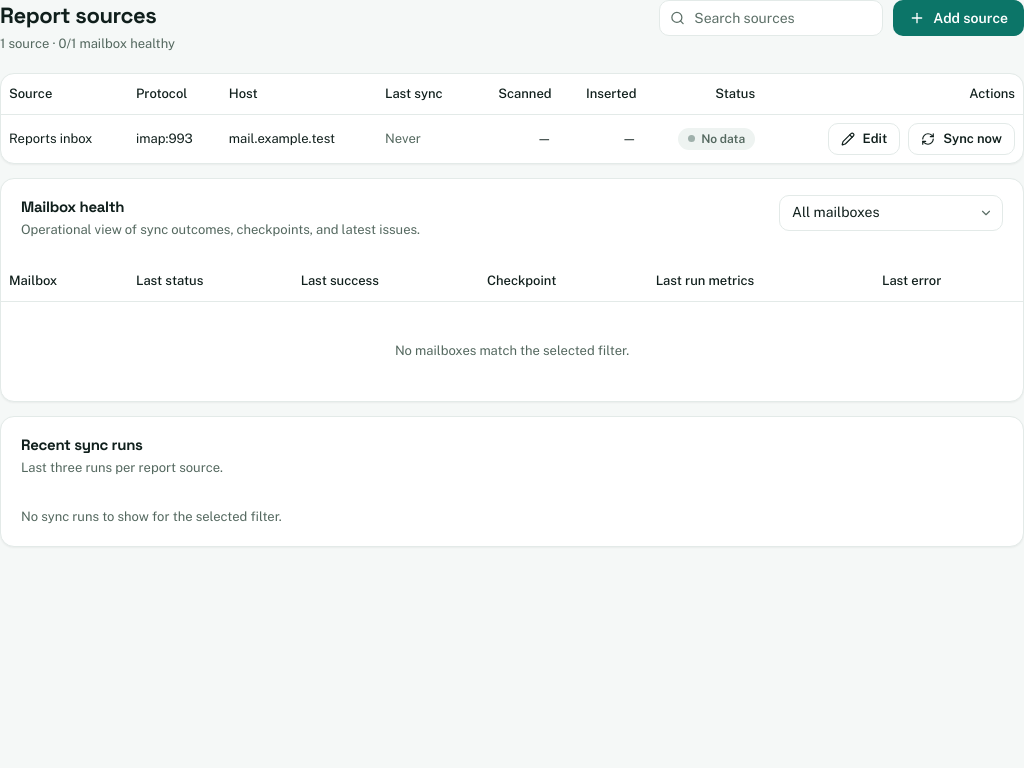
Scenario: manual sync status › shows live sync status and stops polling once completed
Click the button "Sync now" at coordinates (962, 139), box x1=908 y1=123 x2=1015 y2=155
Wait 40000 ms
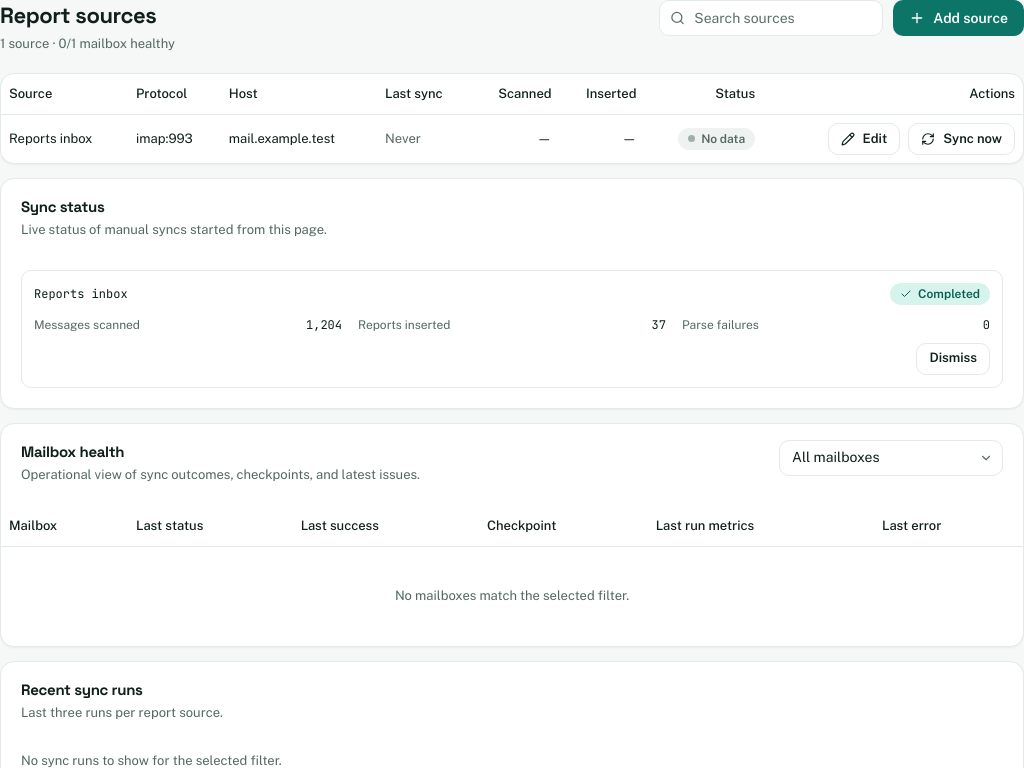
Now the heading "Sync status" is shown, box x1=21 y1=197 x2=104 y2=216
Now the text "Completed" is shown, box x1=890 y1=283 x2=990 y2=305
Now the text "Messages scanned" is shown, box x1=34 y1=317 x2=140 y2=333
